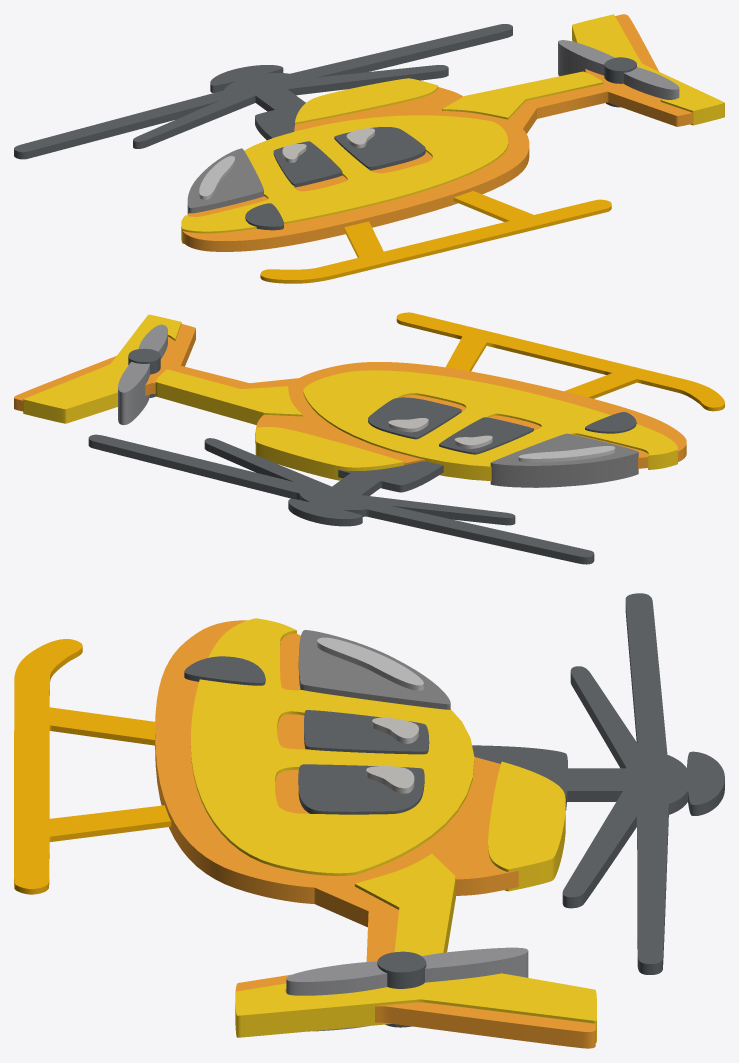
Rendered from emoji_u1f681.glb.
The picture shows the model from 3 angles, top to bottom: view 1: azimuth 30°, elevation 25°; view 2: azimuth 150°, elevation 25°; view 3: azimuth 270°, elevation 25°; orthographic projection. The views are drawn at different scales.
Visible parts, largest first — view 1: emoji_u1f681; view 2: emoji_u1f681; view 3: emoji_u1f681.
Boxes of the visible parts, left/top/right/bottom form: emoji_u1f681: left=14, top=14, right=724, bottom=283; emoji_u1f681: left=14, top=312, right=724, bottom=564; emoji_u1f681: left=14, top=593, right=724, bottom=1048.
Size of the model in its own units: 0.0344 by 0.002 by 0.0234.
